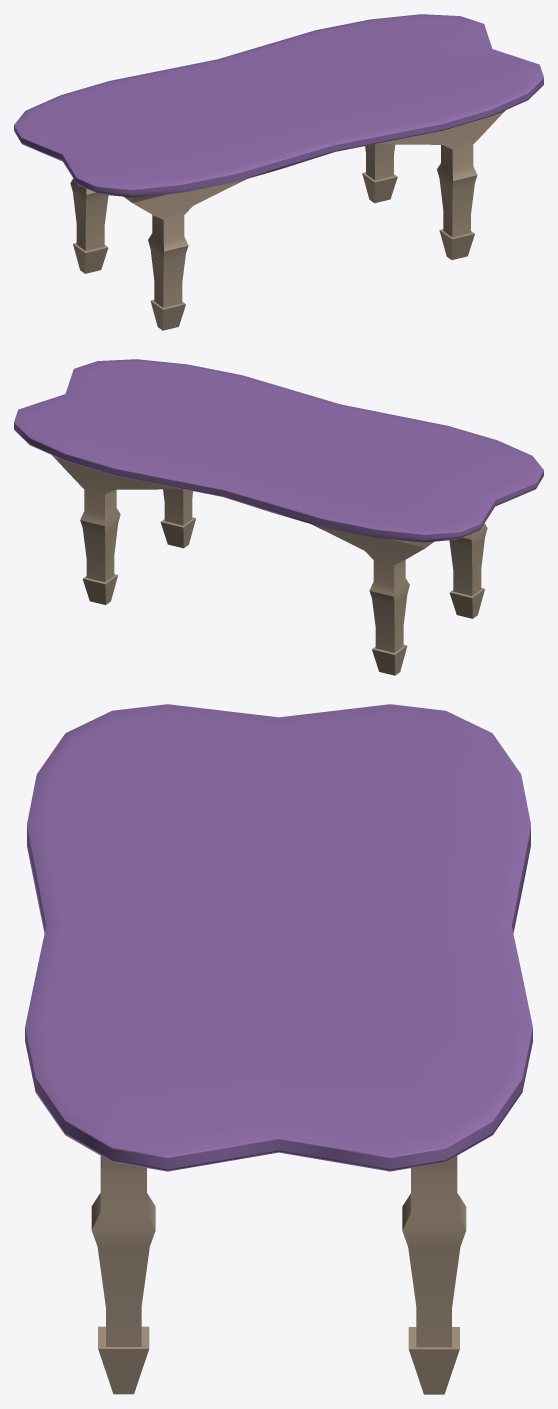
Rendered from Table.fbx.
The picture shows the model from 3 angles, top to bottom: view 1: azimuth 30°, elevation 25°; view 2: azimuth 150°, elevation 25°; view 3: azimuth 270°, elevation 25°; orthographic projection. The views are drawn at different scales.
Visible parts, largest first — view 1: polySurface1, polySurface2, polySurface5, polySurface3, polySurface4; view 2: polySurface1, polySurface3, polySurface4, polySurface2, polySurface5; view 3: polySurface1, polySurface5, polySurface4.
Boxes of the visible parts, bbox=[...] form: polySurface1: bbox=[14, 14, 543, 197]; polySurface2: bbox=[124, 179, 246, 330]; polySurface5: bbox=[375, 110, 505, 259]; polySurface3: bbox=[70, 178, 108, 273]; polySurface4: bbox=[362, 144, 397, 203]; polySurface1: bbox=[14, 359, 543, 542]; polySurface3: bbox=[311, 524, 433, 675]; polySurface4: bbox=[52, 455, 182, 604]; polySurface2: bbox=[449, 523, 487, 618]; polySurface5: bbox=[160, 489, 195, 548]; polySurface1: bbox=[25, 704, 532, 1171]; polySurface5: bbox=[91, 1156, 155, 1394]; polySurface4: bbox=[402, 1156, 466, 1394].
Bounding box in the file's own units: 7.07 × 2.37 × 3.36.
